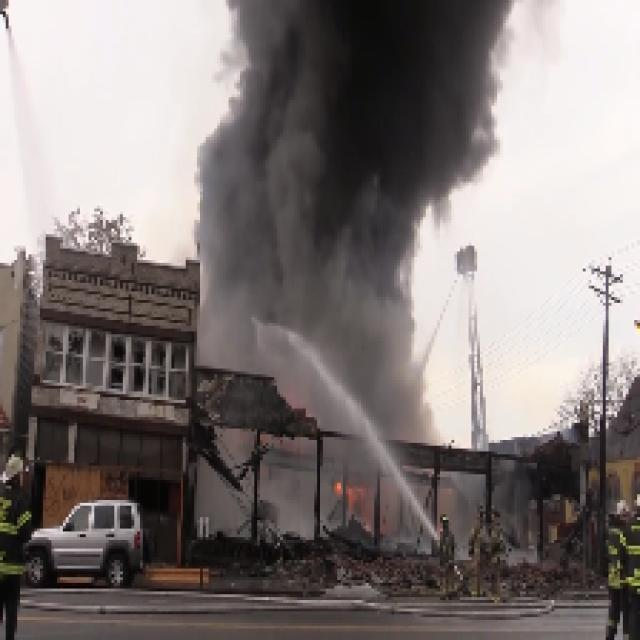Smoke: (197, 3, 460, 323), (466, 3, 560, 180), (378, 326, 446, 443)
